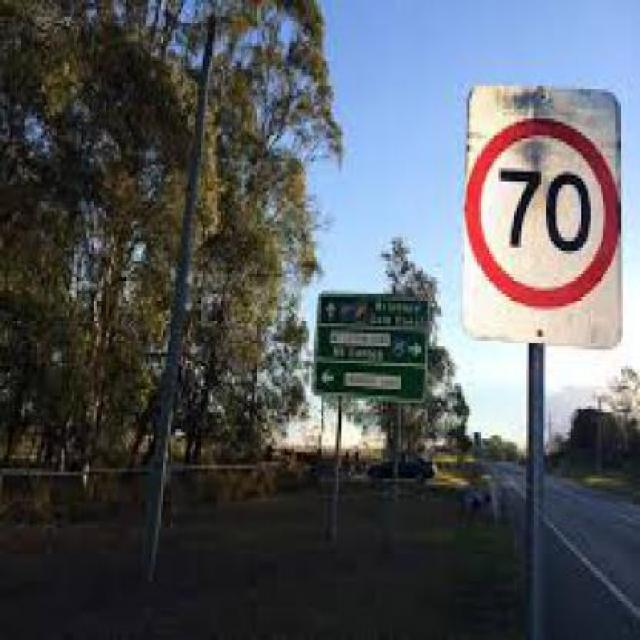traffic_sign: (462, 122, 623, 320)
